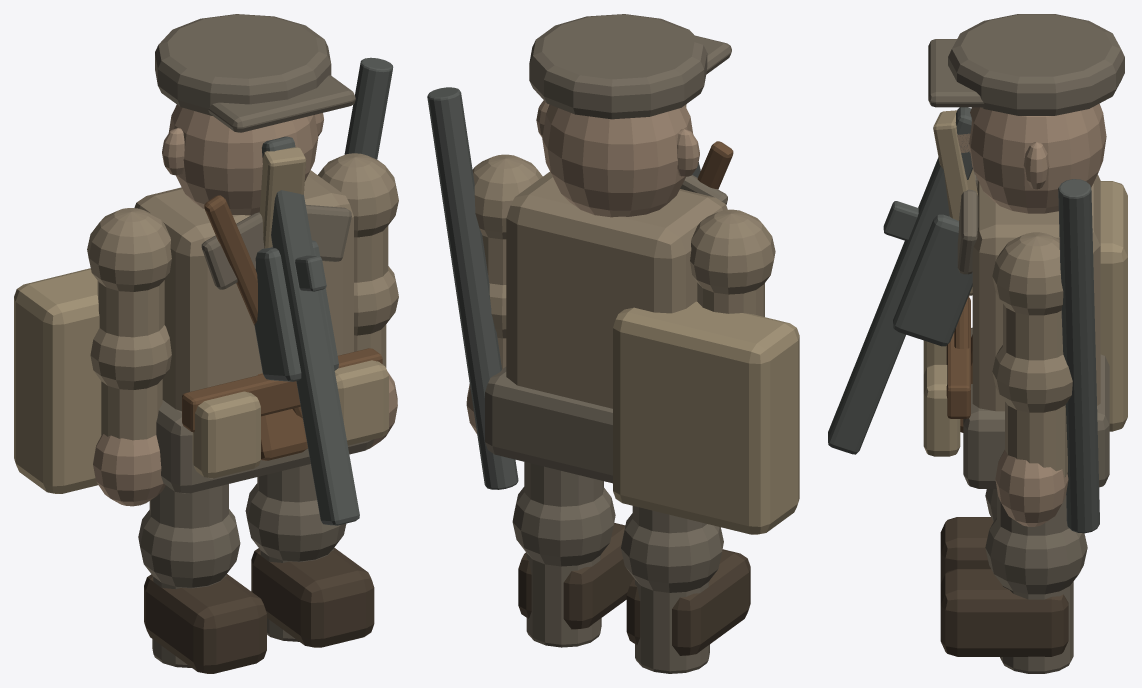
Rendered from Model_OperativeSapper.glb.
3 views of the same model, side by side, from view 1: azimuth 30°, elevation 25°; view 2: azimuth 150°, elevation 25°; view 3: azimuth 270°, elevation 25° (orthographic).
Parts seen in each view (by area): view 1: Asset_OperativeSapper_BodyMesh, Arm_L_Mesh.001, Leg_L_Mesh.001, Leg_R_Mesh.001, Arm_R_Mesh.001; view 2: Asset_OperativeSapper_BodyMesh, Leg_R_Mesh.001, Leg_L_Mesh.001, Arm_L_Mesh.001, Arm_R_Mesh.001; view 3: Asset_OperativeSapper_BodyMesh, Arm_R_Mesh.001, Leg_R_Mesh.001, Leg_L_Mesh.001.
Boxes of the visible parts, x1,y1,x2,y2 form: Asset_OperativeSapper_BodyMesh: (14, 14, 393, 525); Arm_L_Mesh.001: (87, 208, 171, 506); Leg_L_Mesh.001: (138, 484, 266, 673); Leg_R_Mesh.001: (245, 464, 374, 647); Arm_R_Mesh.001: (318, 153, 398, 449); Asset_OperativeSapper_BodyMesh: (427, 14, 799, 534); Leg_R_Mesh.001: (512, 462, 634, 647); Leg_L_Mesh.001: (621, 506, 750, 673); Arm_L_Mesh.001: (690, 209, 775, 316); Arm_R_Mesh.001: (466, 154, 542, 434); Asset_OperativeSapper_BodyMesh: (828, 14, 1127, 533); Arm_R_Mesh.001: (992, 232, 1072, 526); Leg_R_Mesh.001: (940, 490, 1087, 673); Leg_L_Mesh.001: (940, 489, 996, 583).
Bounding box in the file's own units: 1.34 × 2.13 × 0.9841.
